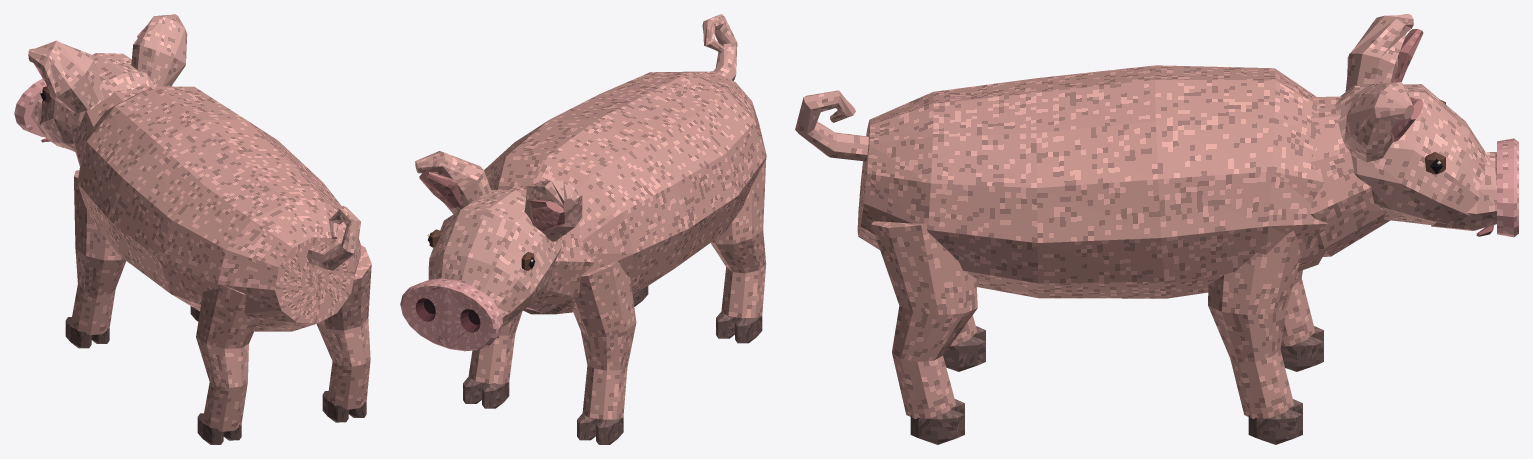
Rendered from mon_pig.glb.
3 renders of one model, left to right at view 1: azimuth 30°, elevation 25°; view 2: azimuth 150°, elevation 25°; view 3: azimuth 270°, elevation 25°, orthographic. The views are drawn at different scales.
Parts seen in each view (by area): view 1: closed_body; view 2: closed_body; view 3: closed_body.
Part boxes in pixels (box(x1,y1,x2,y2)): closed_body: box(14, 14, 371, 444); closed_body: box(400, 14, 766, 444); closed_body: box(795, 14, 1518, 444).
Size of the model in its own units: 0.7382 by 1.08 by 2.01.
1 material, 1 textured.
